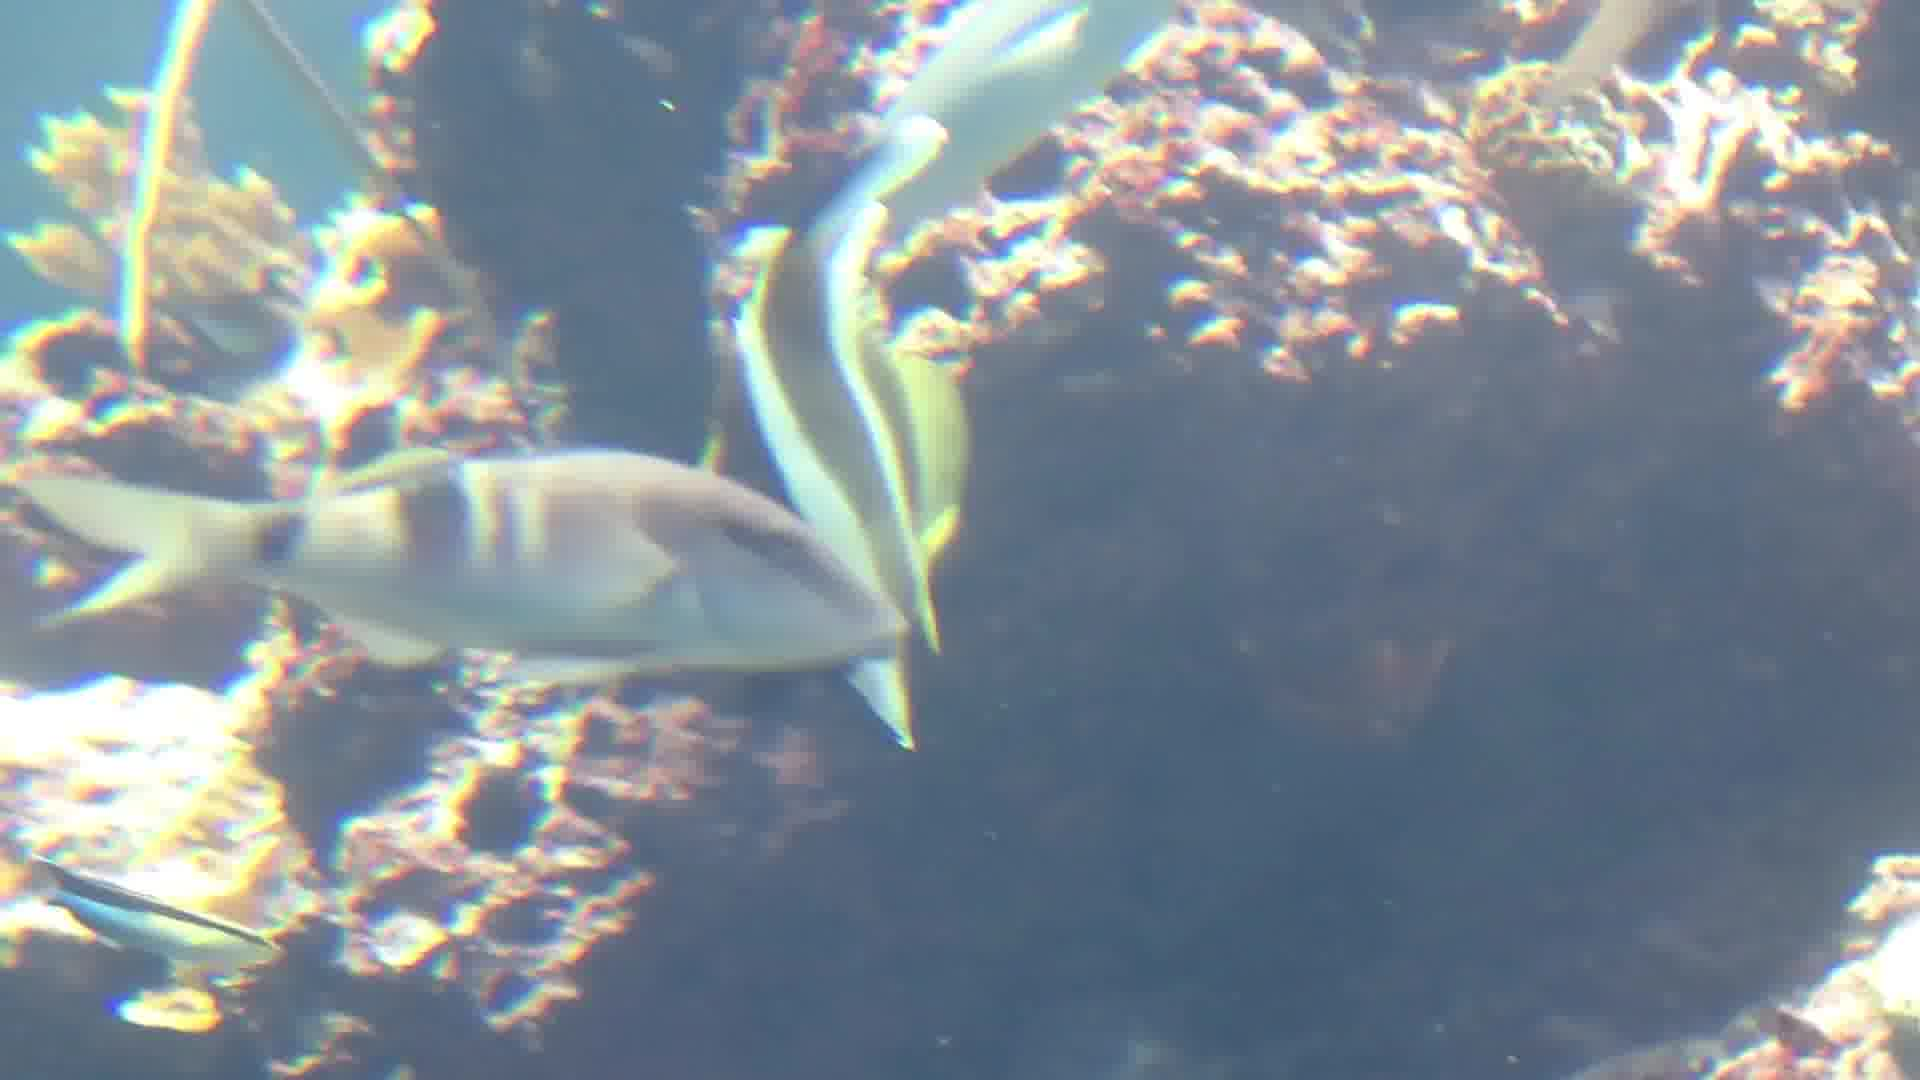Heniochus chrysostomus: (686, 113, 1098, 753)
